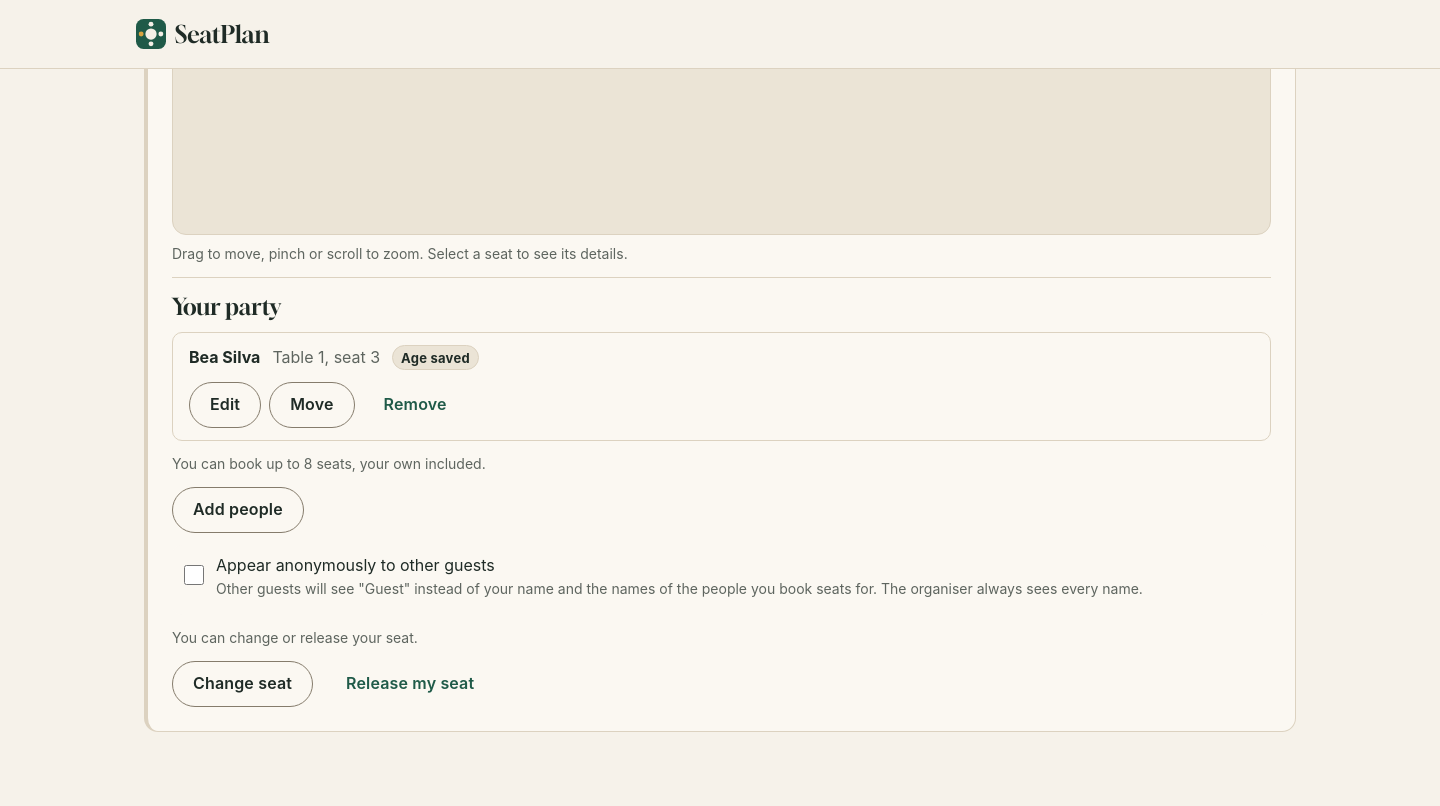
it: Your party › Remove asks first, then deletes the person and frees the seat
(page scrolled)
Step 1. Click the button with aria-label "Remove Bea Silva" → (415, 405), box [363,382,468,428]
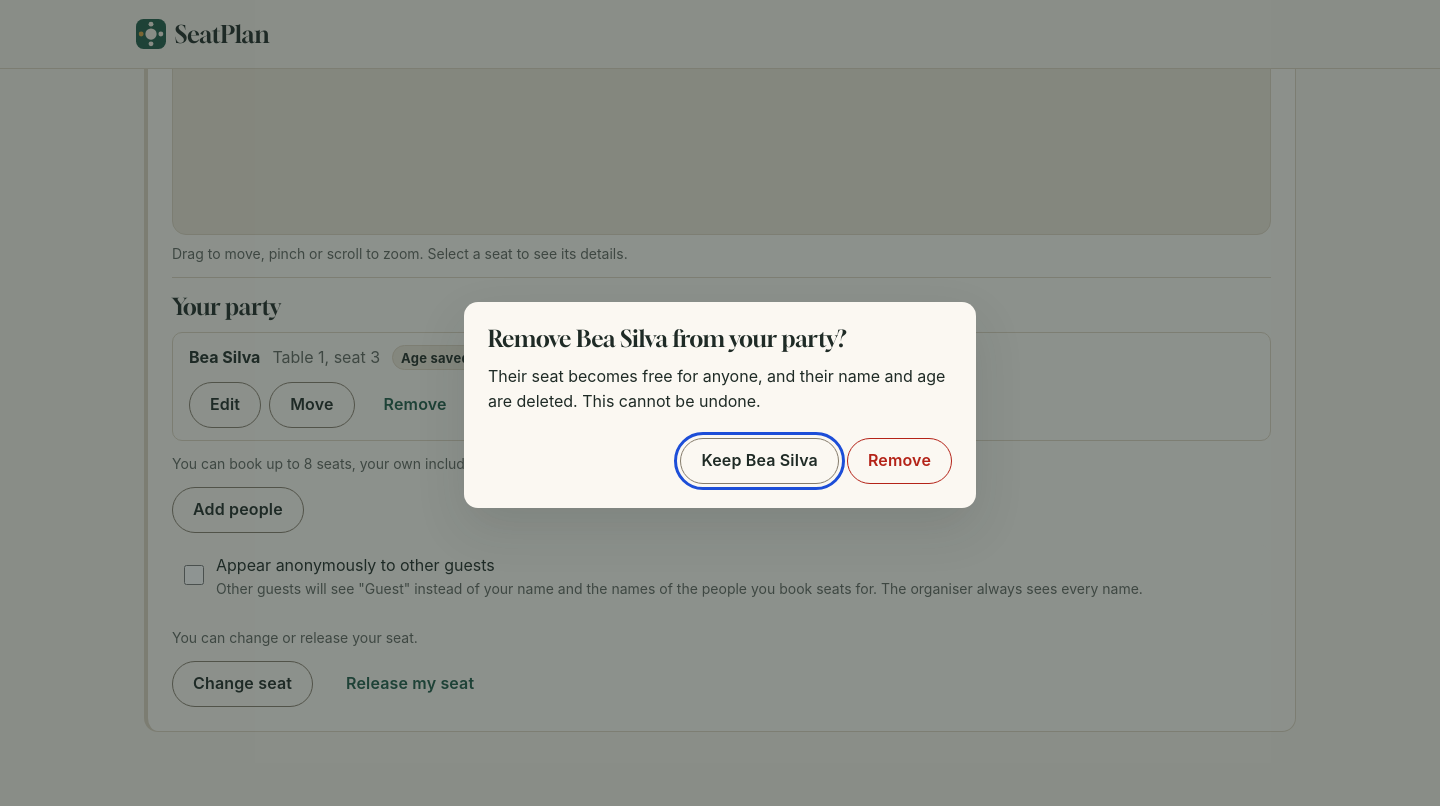
Expected: the text "Their seat becomes free for anyone, and their name and age are deleted. This cannot be undone." is shown, [488,366,945,411]
Step 2. Click the button "Remove" → (899, 461), box [847,438,952,484]
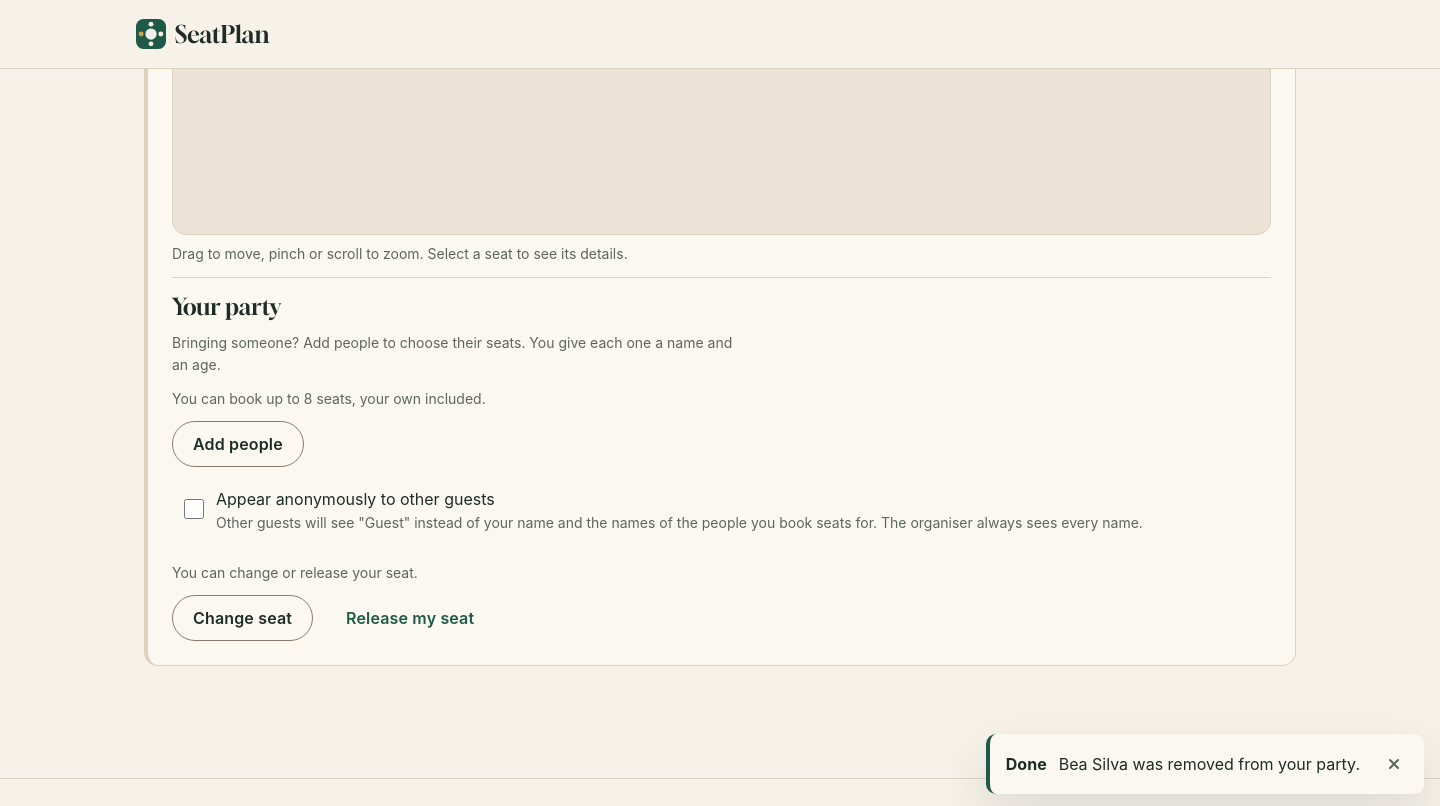
Expected: the text "Bringing someone?" is shown, [172,334,732,373]
